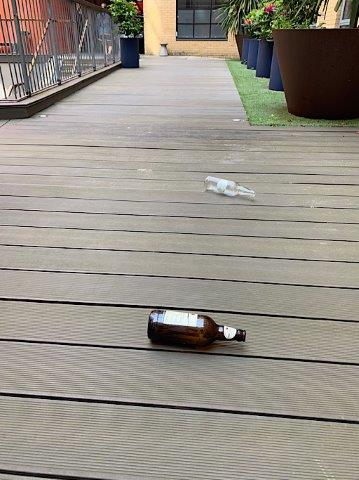botolkaca: (146, 310, 247, 350), (204, 175, 256, 198)
